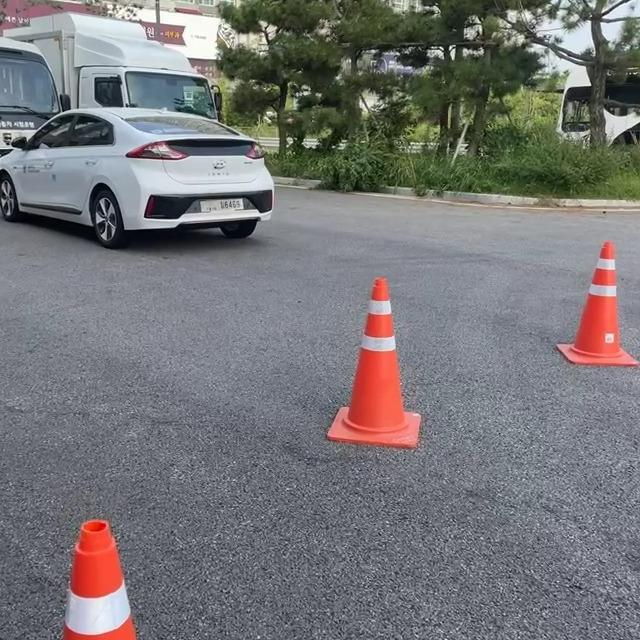fallen_object: (289, 243, 457, 457), (23, 466, 156, 639), (534, 233, 640, 399)
